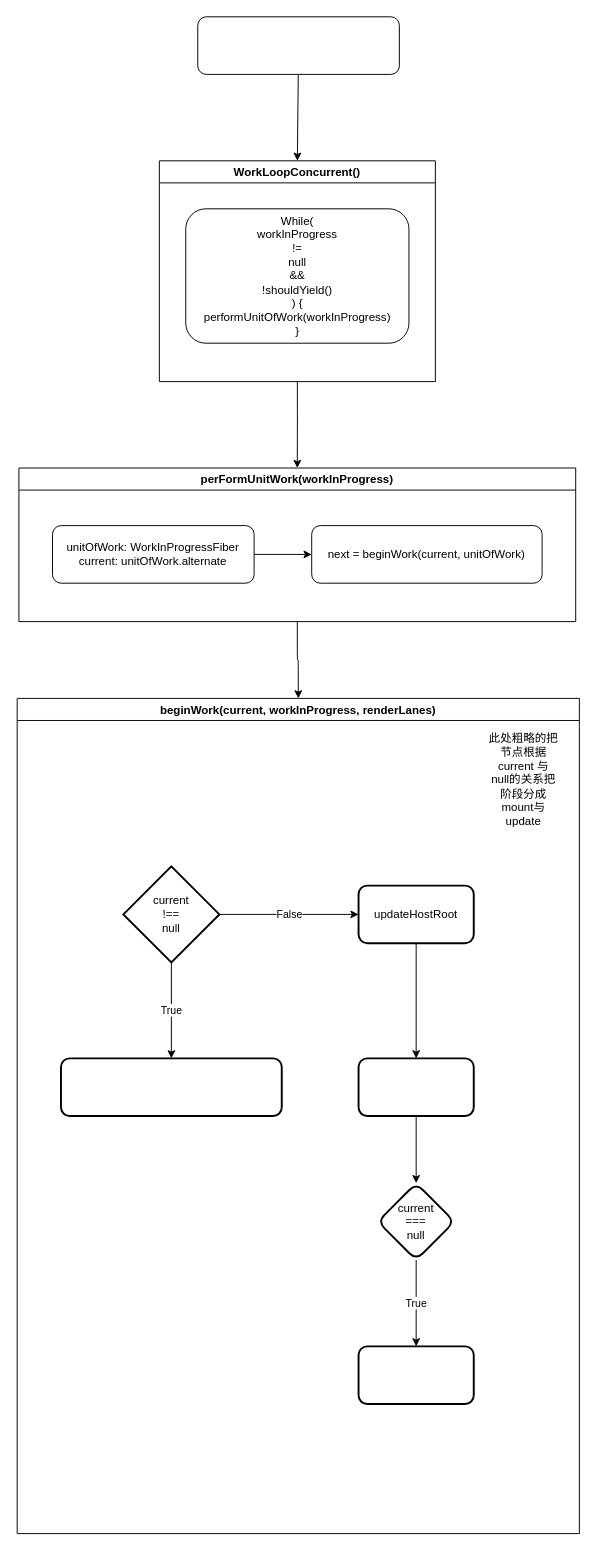
This 596x1550 diagram has some shape labels left out. Here are the shapes that lost their labels. From the top down, the centre of each, then its label:
At (298,45): "performConcurrentWorkOnRoot".
At (171,1086): "bailoutOnAlreadyFinishedWork(current, workInProgress, renderLanes)".
At (415,1086): "reconcileChildren".
At (415,1374): "mountChildFibers".
